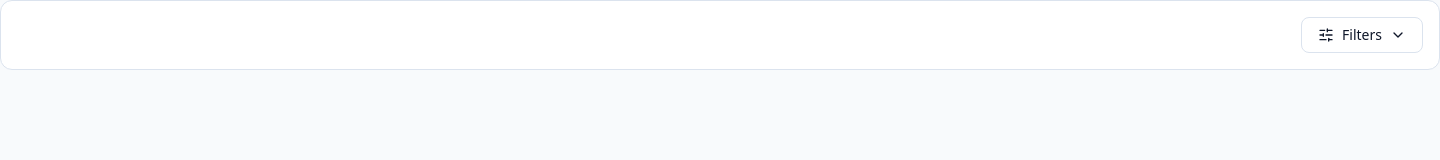
CollapsibleFilterPanel › reveals the other filter fields when the "Filters" toggle is clicked, and hides them again on a second click
Click the button "Filters".
click(1362, 35)  # box [1301,17,1423,53]
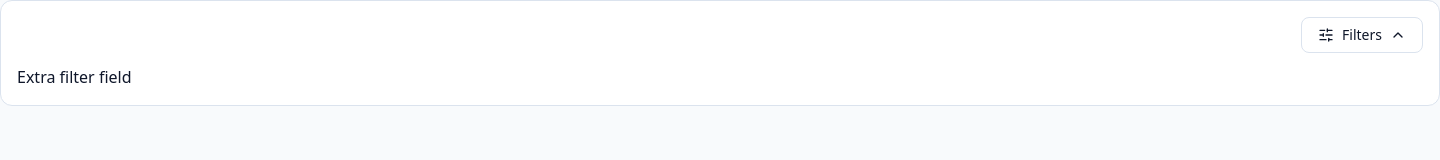
Result: the text "Extra filter field" is shown at [17,66,132,88]
Result: the button "Filters" is expanded
Click the button "Filters".
click(1362, 35)  # box [1301,17,1423,53]
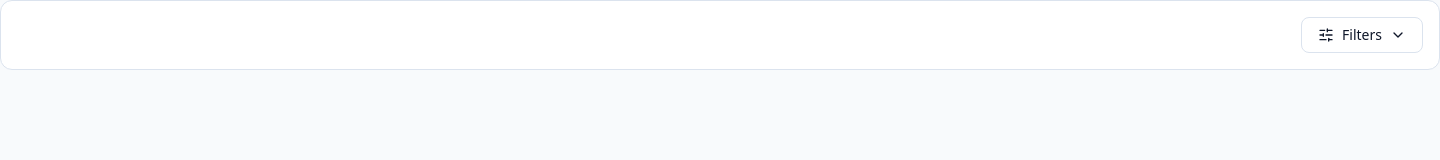
Result: the text "Extra filter field" is gone
